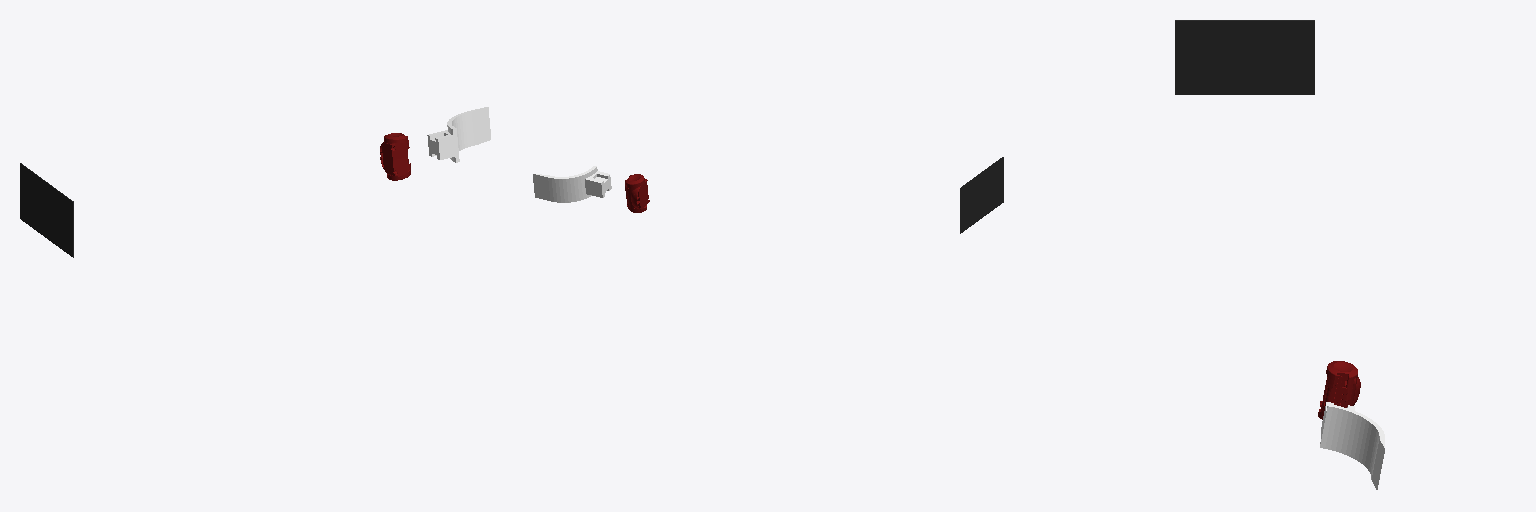
URDF robot description (sawyer):
<?xml version="1" ?>
<!-- =================================================================================== -->
<!-- |    This document was autogenerated by xacro from ./urdf.xacro                   | -->
<!-- |    EDITING THIS FILE BY HAND IS NOT RECOMMENDED                                 | -->
<!-- =================================================================================== -->
<robot name="sawyer" xmlns:xacro="http://www.ros.org/wiki/xacro">
  <material name="black">
    <color rgba="0 0 0 1"/>
  </material>
  <material name="darkgray">
    <color rgba="0.2 0.2 0.2 1"/>
  </material>
  <material name="darkred">
    <color rgba="0.5 0.1 0.1 1"/>
  </material>
  <material name="sawyer_red">
    <color rgba="0.5 0.1 0.1 1"/>
  </material>
  <material name="sawyer_gray">
    <color rgba="0.75294 0.75294 0.75294 1"/>
  </material>
  <link name="base">
    <inertial>
      <origin rpy="0 0 0" xyz="-0.1 0 0.07"/>
      <!--Increase mass from 5 Kg original to provide a stable base to carry the
          arm.-->
      <mass value=".0"/>
      <inertia ixx="0.05" ixy="0" ixz="0" iyy="0.06" iyz="0" izz="0.03"/>
    </inertial>
  </link>
  <link name="torso">
    <visual>
      <origin rpy="0 0 0" xyz="0 0 0"/>
      <geometry>
        <box size="0 0 0"/>
      </geometry>
      <material name="darkgray">
        <color rgba="0.2 0.2 0.2 1"/>
      </material>
    </visual>
    <inertial>
      <origin rpy="0 0 0" xyz="0 0 0"/>
      <mass value="0.0001"/>
      <inertia ixx="1e-08" ixy="0" ixz="0" iyy="1e-08" iyz="0" izz="1e-08"/>
    </inertial>
  </link>
  <link name="pedestal">
    <visual>
      <origin rpy="1.5708 0 -1.5708" xyz="0.26 0.345 -0.91488"/>
      <geometry>
        <mesh filename="meshes/sawyer_pv/pedestal.DAE"/>
      </geometry>
      <material name="darkgray"/>
    </visual>
    <collision>
      <origin rpy="0 0 0" xyz="0 0 -0.3"/>
      <geometry>
        <cylinder length="0.62" radius="0.18"/>
      </geometry>
    </collision>
    <inertial>
      <origin rpy="0 0 0" xyz="0 0 0"/>
      <mass value="60.864"/>
      <inertia ixx="5.0636" ixy="0.0010342" ixz="0.802" iyy="6.0869" iyz="0.0010531" izz="4.9619"/>
    </inertial>
  </link>
  <!--
  <link name="controller_box">
    <collision>
      <origin rpy="0 0 0" xyz="-0.325 0 -0.38"/>
      <geometry>
        <box size="0.22 0.4 0.53"/>
      </geometry>
    </collision>
  </link>
  <joint name="controller_box_fixed" type="fixed">
    <origin rpy="0 0 0" xyz="0 0 0"/>
    <parent link="base"/>
    <child link="controller_box"/>
  </joint>
  <link name="pedestal_feet">
    <collision>
      <origin rpy="0 0 0" xyz="-0.1225 0 -0.758"/>
      <geometry>
        <box size="0.77 0.7 0.31"/>
      </geometry>
    </collision>
  </link>
  <joint name="pedestal_feet_fixed" type="fixed">
    <origin rpy="0 0 0" xyz="0 0 0"/>
    <parent link="base"/>
    <child link="pedestal_feet"/>
  </joint>
  -->
  <joint name="torso_t0" type="fixed">
    <origin rpy="0 0 0" xyz="0 0 0"/>
    <parent link="base"/>
    <child link="torso"/>
  </joint>
  <joint name="pedestal_fixed" type="fixed">
    <origin rpy="0 0 0" xyz="0 0 0"/>
    <parent link="base"/>
    <child link="pedestal"/>
  </joint>
  <joint name="right_arm_mount" type="fixed">
    <origin rpy="0 0 0" xyz="0 0 0"/>
    <parent link="base"/>
    <child link="right_arm_base_link"/>
  </joint>
  <link name="right_arm_base_link">
    <inertial>
      <origin rpy="0 0 0" xyz="-0.0006241 -2.8025e-05 0.065404"/>
      <mass value="2.0687"/>
      <inertia ixx="0.0067599" ixy="-4.2024e-05" ixz="-6.1904e-07" iyy="0.0067877" iyz="1.5888e-05" izz="0.0074031"/>
    </inertial>
    <visual>
      <origin rpy="0 0 0" xyz="0 0 0"/>
      <geometry>
        <mesh filename="meshes/sawyer_pv/base.DAE"/>
      </geometry>
      <material name="sawyer_red"/>
    </visual>
    <collision>
      <origin rpy="0 0 0" xyz="0 0 0.12"/>
      <geometry>
        <cylinder length="0.24" radius="0.08"/>
      </geometry>
    </collision>
  </link>
  <link name="right_l0">
    <inertial>
      <origin rpy="0 0 0" xyz="0.024366 0.010969 0.14363"/>
      <mass value="5.3213"/>
      <inertia ixx="0.053314" ixy="0.0047093" ixz="0.011734" iyy="0.057902" iyz="0.0080179" izz="0.023659"/>
    </inertial>
    <visual>
      <origin rpy="0 0 0" xyz="0 0 0"/>
      <geometry>
        <mesh filename="meshes/sawyer_mp3/l0.DAE"/>
      </geometry>
      <material name="sawyer_red"/>
    </visual>
    <collision>
      <origin rpy="0 0 0" xyz="0.081 0 0.237"/>
      <geometry>
        <sphere radius="0.07"/>
      </geometry>
    </collision>
  </link>
  <joint name="right_j0" type="revolute">
    <origin rpy="0 0 0" xyz="0 0 0.08"/>
    <parent link="right_arm_base_link"/>
    <child link="right_l0"/>
    <axis xyz="0 0 1"/>
    <limit effort="80" lower="-3.0503" upper="3.0503" velocity="1.74"/>
  </joint>
  <link name="head">
    <inertial>
      <origin rpy="0 0 0" xyz="0.0053207 -2.6549e-05 0.1021"/>
      <mass value="1.5795"/>
      <inertia ixx="0.011833" ixy="-4.4669e-06" ixz="4.9425e-05" iyy="0.0082709" iyz="4.2124e-07" izz="0.0049661"/>
    </inertial>
    <visual>
      <origin rpy="0 0 0" xyz="0 0 0"/>
      <geometry>
        <mesh filename="meshes/sawyer_pv/head.STL"/>
      </geometry>
      <material name="sawyer_red"/>
    </visual>
    <collision>
      <origin rpy="0 0 0" xyz="0 0 0.08"/>
      <geometry>
        <sphere radius="0.18"/>
      </geometry>
    </collision>
  </link>
  <joint name="head_pan" type="revolute">
    <origin rpy="0 0 0" xyz="0 0 0.2965"/>
    <parent link="right_l0"/>
    <child link="head"/>
    <axis xyz="0 0 1"/>
    <limit effort="8" lower="-5.1477" upper="0.9559" velocity="1.8"/>
  </joint>
  <link name="right_torso_itb">
    <inertial>
      <origin rpy="0 0 0" xyz="0 0 0"/>
      <mass value="0.0001"/>
      <inertia ixx="1e-08" ixy="0" ixz="0" iyy="1e-08" iyz="0" izz="1e-08"/>
    </inertial>
  </link>
  <joint name="right_torso_itb" type="fixed">
    <origin rpy="0 -1.5708 0" xyz="-0.055 0 0.22"/>
    <parent link="right_l0"/>
    <child link="right_torso_itb"/>
    <axis xyz="0 0 1"/>
  </joint>
  <link name="right_l1">
    <inertial>
      <origin rpy="0 0 0" xyz="-0.0030849 -0.026811 0.092521"/>
      <mass value="4.505"/>
      <inertia ixx="0.022398" ixy="-0.00023986" ixz="-0.00029362" iyy="0.014613" iyz="-0.0060875" izz="0.017295"/>
    </inertial>
    <visual>
      <origin rpy="0 0 0" xyz="0 0 0"/>
      <geometry>
        <mesh filename="meshes/sawyer_mp3/l1.DAE"/>
      </geometry>
      <material name="sawyer_red"/>
    </visual>
    <collision>
      <origin rpy="0 0 0" xyz="0 0 0.1225"/>
      <geometry>
        <sphere radius="0.07"/>
      </geometry>
    </collision>
  </link>
  <joint name="right_j1" type="revolute">
    <origin rpy="-1.5708 1.5708 0" xyz="0.081 0.05 0.237"/>
    <parent link="right_l0"/>
    <child link="right_l1"/>
    <axis xyz="0 0 1"/>
    <limit effort="80" lower="-3.8183" upper="2.2824" velocity="1.328"/>
  </joint>
  <link name="right_l2">
    <inertial>
      <origin rpy="0 0 0" xyz="-0.00016232 -0.015346 0.13445"/>
      <mass value="1.7251"/>
      <inertia ixx="0.025176" ixy="4.3031e-06" ixz="1.4564e-05" iyy="0.024982" iyz="-0.0033928" izz="0.0033798"/>
    </inertial>
    <visual>
      <origin rpy="0 0 0" xyz="0 0 0"/>
      <geometry>
        <mesh filename="meshes/sawyer_pv/l2.DAE"/>
      </geometry>
      <material name="sawyer_red"/>
    </visual>
    <collision>
      <origin rpy="0 0 0" xyz="0 0 0.14"/>
      <geometry>
        <cylinder length="0.35" radius="0.06"/>
      </geometry>
    </collision>
  </link>
  <joint name="right_j2" type="revolute">
    <origin rpy="1.5708 0 0" xyz="0 -0.14 0.1425"/>
    <parent link="right_l1"/>
    <child link="right_l2"/>
    <axis xyz="0 0 1"/>
    <limit effort="40" lower="-3.0514" upper="3.0514" velocity="1.957"/>
  </joint>
  <link name="right_l3">
    <inertial>
      <origin rpy="0 0 0" xyz="-0.0046678 -0.028394 -0.083127"/>
      <mass value="2.4743"/>
      <inertia ixx="0.0099549" ixy="-1.7675e-05" ixz="0.00027521" iyy="0.0064248" iyz="0.0030853" izz="0.0067746"/>
    </inertial>
    <visual>
      <origin rpy="0 0 0" xyz="0 0 0"/>
      <geometry>
        <mesh filename="meshes/sawyer_pv/l3.DAE"/>
      </geometry>
      <material name="sawyer_red"/>
    </visual>
    <collision>
      <origin rpy="0 0 0" xyz="0 -0.01 -0.12"/>
      <geometry>
        <sphere radius="0.06"/>
      </geometry>
    </collision>
  </link>
  <joint name="right_j3" type="revolute">
    <origin rpy="-1.5708 0 0" xyz="0 -0.042 0.26"/>
    <parent link="right_l2"/>
    <child link="right_l3"/>
    <axis xyz="0 0 1"/>
    <limit effort="40" lower="-3.0514" upper="3.0514" velocity="1.957"/>
  </joint>
  <link name="right_l4">
    <inertial>
      <origin rpy="0 0 0" xyz="-0.0027794 0.0076558 0.13273"/>
      <mass value="1.0433"/>
      <inertia ixx="0.012913" ixy="2.573e-05" ixz="0.00017705" iyy="0.012939" iyz="0.0011152" izz="0.0012405"/>
    </inertial>
    <visual>
      <origin rpy="0 0 0" xyz="0 0 0"/>
      <geometry>
        <mesh filename="meshes/sawyer_pv/l4.DAE"/>
      </geometry>
      <material name="sawyer_red"/>
    </visual>
    <collision>
      <origin rpy="0 0 0" xyz="0 0 0.14"/>
      <geometry>
        <cylinder length="0.36" radius="0.045"/>
      </geometry>
    </collision>
  </link>
  <joint name="right_j4" type="revolute">
    <origin rpy="1.5708 0 0" xyz="0 -0.125 -0.1265"/>
    <parent link="right_l3"/>
    <child link="right_l4"/>
    <axis xyz="0 0 1"/>
    <limit effort="9" lower="-2.9842" upper="2.9842" velocity="3.485"/>
  </joint>
  <link name="right_arm_itb">
    <inertial>
      <origin rpy="0 0 0" xyz="0 0 0"/>
      <mass value="0.0001"/>
      <inertia ixx="1e-08" ixy="0" ixz="0" iyy="1e-08" iyz="0" izz="1e-08"/>
    </inertial>
  </link>
  <joint name="right_arm_itb" type="fixed">
    <origin rpy="0 -1.5708 0" xyz="-0.055 0 0.075"/>
    <parent link="right_l4"/>
    <child link="right_arm_itb"/>
    <axis xyz="0 0 1"/>
  </joint>
  <link name="right_l5">
    <inertial>
      <origin rpy="0 0 0" xyz="0.0062067 -0.024291 0.075564"/>
      <mass value="1.5343"/>
      <inertia ixx="0.0046072" ixy="0.00012002" ixz="5.3065e-05" iyy="0.0028725" iyz="-0.0011886" izz="0.003101"/>
    </inertial>
    <visual>
      <origin rpy="0 0 0" xyz="0 0 0"/>
      <geometry>
        <mesh filename="meshes/sawyer_pv/l5.STL"/>
      </geometry>
      <material name="sawyer_red"/>
    </visual>
    <collision>
      <origin rpy="0 0 0" xyz="0.01 0 0.09"/>
      <geometry>
        <sphere radius="0.06"/>
      </geometry>
    </collision>
  </link>
  <joint name="right_j5" type="revolute">
    <origin rpy="-1.5708 0 0" xyz="0 0.031 0.275"/>
    <parent link="right_l4"/>
    <child link="right_l5"/>
    <axis xyz="0 0 1"/>
    <limit effort="9" lower="-2.9842" upper="2.9842" velocity="3.485"/>
  </joint>
  <link name="right_hand_camera">
    <inertial>
      <origin rpy="0 0 0" xyz="0 0 0"/>
      <mass value="0.0001"/>
      <inertia ixx="1e-08" ixy="0" ixz="0" iyy="1e-08" iyz="0" izz="1e-08"/>
    </inertial>
  </link>
  <joint name="right_hand_camera" type="fixed">
    <origin rpy="0 1.5708 0" xyz="0.039552 -0.033 0.0695"/>
    <parent link="right_l5"/>
    <child link="right_hand_camera"/>
    <axis xyz="0 0 0"/>
  </joint>
  <link name="right_wrist">
    <inertial>
      <origin rpy="0 0 0" xyz="0 0 0"/>
      <mass value="0.0001"/>
      <inertia ixx="1e-08" ixy="0" ixz="0" iyy="1e-08" iyz="0" izz="1e-08"/>
    </inertial>
  </link>
  <joint name="right_wrist" type="fixed">
    <origin rpy="1.5708 0 0" xyz="0 0 0.10541"/>
    <parent link="right_l5"/>
    <child link="right_wrist"/>
    <axis xyz="0 0 0"/>
  </joint>
  <link name="right_l6">
    <inertial>
      <origin rpy="0 0 0" xyz="-8.0726e-06 0.0085838 -0.0049566"/>
      <mass value="0.3292"/>
      <inertia ixx="0.00031105" ixy="1.4771e-06" ixz="-3.7074e-07" iyy="0.00021549" iyz="-8.4533e-06" izz="0.00035976"/>
    </inertial>
    <visual>
      <origin rpy="0 0 0" xyz="0 0 0"/>
      <geometry>
        <mesh filename="meshes/sawyer_mp1/l6.STL"/>
      </geometry>
      <material name="sawyer_red"/>
    </visual>
    <collision>
      <origin rpy="0 0 0" xyz="0 0 -0.005"/>
      <geometry>
        <cylinder length="0.05" radius="0.065"/>
      </geometry>
    </collision>
  </link>
  <joint name="right_j6" type="revolute">
    <origin rpy="-1.5708 -0.17453 3.1416" xyz="0 -0.11 0.1053"/>
    <parent link="right_l5"/>
    <child link="right_l6"/>
    <axis xyz="0 0 1"/>
    <limit effort="9" lower="-4.7104" upper="4.7104" velocity="4.545"/>
  </joint>
  <link name="right_hand">
    <inertial>
      <origin rpy="0 0 0" xyz="0 0 0"/>
      <mass value="1e-08"/>
      <inertia ixx="1e-08" ixy="0" ixz="0" iyy="1e-08" iyz="0" izz="1e-08"/>
    </inertial>
  </link>
  <joint name="right_hand" type="fixed">
    <origin rpy="0 0 1.5708" xyz="0 0 0.0245"/>
    <axis xyz="0 0 1"/>
    <parent link="right_l6"/>
    <child link="right_hand"/>
  </joint>
  <link name="screen">
    <visual>
      <origin rpy="0 0 0" xyz="0 0 0"/>
      <geometry>
        <box size="0.24 0.14 0.002"/>
      </geometry>
      <material name="darkgray"/>
    </visual>
    <collision>
      <origin rpy="0 0 0" xyz="0 0 0"/>
      <geometry>
        <sphere radius="0.001"/>
      </geometry>
    </collision>
    <inertial>
      <origin rpy="0 0 0" xyz="0 0 0"/>
      <mass value="0.0001"/>
      <inertia ixx="1e-08" ixy="0" ixz="0" iyy="1e-08" iyz="0" izz="1e-08"/>
    </inertial>
  </link>
  <joint name="display_joint" type="fixed">
    <origin rpy="1.5708 0 1.5708" xyz="0.03 0 0.105"/>
    <parent link="head"/>
    <child link="screen"/>
  </joint>
  <link name="head_camera">
    <inertial>
      <origin rpy="0 0 0" xyz="0 0 0"/>
      <mass value="0.0001"/>
      <inertia ixx="1e-08" ixy="0" ixz="0" iyy="1e-08" iyz="0" izz="1e-08"/>
    </inertial>
  </link>
    <joint name="head_camera" type="fixed">
      <origin rpy="-2.1293 0 -1.5708" xyz="0.022803 0 0.21657"/>
      <parent link="head"/>
      <child link="head_camera"/>
      <axis xyz="0 0 0"/>
    </joint>


  <!-- Base of end effector -->
  <link name="right_gripper_base">
    <visual>
      <origin rpy="-1.57079632679 3.14159265359 0" xyz="0 0 0"/>
      <geometry>
        <mesh filename="rethink_ee_meshes/electric_gripper/electric_gripper_base.DAE"/>
      </geometry>
      <material name="darkred">
        <color rgba=".5 .1 .1 1"/>
      </material>
    </visual>
    <collision>
      <origin rpy="-1.57079632679 3.14159265359 0" xyz="0.0 0.0 0"/>
      <geometry>
        <cylinder length="0.1" radius="0.029"/>
      </geometry>
      <material name="darkred">
        <color rgba=".5 .1 .1 1"/>
      </material>
    </collision>
    <inertial>
      <origin rpy="-1.57079632679 3.14159265359 0" xyz="0.0 0.0 0.0"/>
      <mass value="0.3"/>
      <inertia ixx="2e-08" ixy="0" ixz="0" iyy="3e-08" iyz="0" izz="2e-08"/>
    </inertial>
  </link>
  <link name="r_gripper_l_finger">
    <visual>
      <origin rpy="0 0 -3.14159265359" xyz="0 0 0"/>
      <geometry>
        <mesh filename="rethink_ee_meshes/electric_gripper/fingers/extended_narrow.DAE"/>
      </geometry>
      <material name="darkgray">
        <color rgba=".2 .2 .2 1"/>
      </material>
    </visual>
    <collision>
      <origin rpy="0 0 -3.14159265359" xyz="0 0.01725 0.0615"/>
      <geometry>
        <box size="0.01 0.0135 0.1127"/>
      </geometry>
    </collision>
    <collision>
      <origin rpy="0 0 -3.14159265359" xyz="-0.005 -0.003 0.0083"/>
      <geometry>
        <box size="0.01 0.05 0.017"/>
      </geometry>
    </collision>
    <inertial>
      <origin rpy="0 0 -3.14159265359" xyz="0 0 0"/>
      <mass value="0.02"/>
      <inertia ixx="0.01" ixy="0" ixz="0" iyy="0.01" iyz="0" izz="0.01"/>
    </inertial>
  </link>
  <gazebo reference="r_gripper_l_finger">
    <mu1>1000</mu1>
    <mu2>1000</mu2>
    <fdir1>0.0 0.0 1.0</fdir1>
    <kp>1e5</kp>
    <kd>1.0</kd>
  </gazebo>
  <link name="r_gripper_l_finger_tip">
    <visual>
      <origin rpy="0 0 3.14159265359" xyz="0 0 0"/>
      <geometry>
        <mesh filename="rethink_ee_meshes/electric_gripper/fingers/paddle_tip.DAE"/>
      </geometry>
      <material name="darkgray">
        <color rgba=".2 .2 .2 1"/>
      </material>
    </visual>
    <collision>
      <origin rpy="0 0 3.14159265359" xyz="0 -0.0045 -0.015"/>
      <geometry>
        <box size="0.042 0.0065 0.037"/>
      </geometry>
    </collision>
    <inertial>
      <origin rpy="0 0 3.14159265359" xyz="0 0 0"/>
      <mass value="0.01"/>
      <inertia ixx="0.01" ixy="0" ixz="0" iyy="0.01" iyz="0" izz="0.01"/>
    </inertial>
  </link>
  <joint name="r_gripper_l_finger_tip_joint" type="fixed">
    <origin rpy="0 0 0" xyz="0.0 0.01725 0.1127"/>
    <parent link="r_gripper_l_finger"/>
    <child link="r_gripper_l_finger_tip"/>
  </joint>
  <link name="r_gripper_r_finger">
    <visual>
      <origin rpy="0 0 -0.0" xyz="0 0 0"/>
      <geometry>
        <mesh filename="rethink_ee_meshes/electric_gripper/fingers/extended_narrow.DAE"/>
      </geometry>
      <material name="darkgray">
        <color rgba=".2 .2 .2 1"/>
      </material>
    </visual>
    <collision>
      <origin rpy="0 0 -0.0" xyz="0 -0.01725 0.0615"/>
      <geometry>
        <box size="0.01 0.0135 0.1127"/>
      </geometry>
    </collision>
    <collision>
      <origin rpy="0 0 -0.0" xyz="0.005 0.003 0.0083"/>
      <geometry>
        <box size="0.01 0.05 0.017"/>
      </geometry>
    </collision>
    <inertial>
      <origin rpy="0 0 -0.0" xyz="0 0 0"/>
      <mass value="0.02"/>
      <inertia ixx="0.01" ixy="0" ixz="0" iyy="0.01" iyz="0" izz="0.01"/>
    </inertial>
  </link>
  <gazebo reference="r_gripper_r_finger">
    <mu1>1000</mu1>
    <mu2>1000</mu2>
    <fdir1>0.0 0.0 1.0</fdir1>
    <kp>1e5</kp>
    <kd>1.0</kd>
  </gazebo>
  <link name="r_gripper_r_finger_tip">
    <visual>
      <origin rpy="0 0 0.0" xyz="0 0 0"/>
      <geometry>
        <mesh filename="rethink_ee_meshes/electric_gripper/fingers/paddle_tip.DAE"/>
      </geometry>
      <material name="darkgray">
        <color rgba=".2 .2 .2 1"/>
      </material>
    </visual>
    <collision>
      <origin rpy="0 0 0.0" xyz="0 0.0045 -0.015"/>
      <geometry>
        <box size="0.042 0.0065 0.037"/>
      </geometry>
    </collision>
    <inertial>
      <origin rpy="0 0 0.0" xyz="0 0 0"/>
      <mass value="0.01"/>
      <inertia ixx="0.01" ixy="0" ixz="0" iyy="0.01" iyz="0" izz="0.01"/>
    </inertial>
  </link>
  <joint name="r_gripper_r_finger_tip_joint" type="fixed">
    <origin rpy="0 0 0" xyz="0.0 -0.01725 0.1127"/>
    <parent link="r_gripper_r_finger"/>
    <child link="r_gripper_r_finger_tip"/>
  </joint>
  <!-- Electric Gripper Base Joint -->
  <joint name="right_gripper_base" type="fixed">
    <origin rpy="0 0 0" xyz="0 0 0.025"/>
    <parent link="right_hand"/>
    <child link="right_gripper_base"/>
  </joint>
  <!-- Electric Gripper Tip joint -->
  <joint name="right_endpoint" type="fixed">
    <origin rpy="0 0 0" xyz="0 0 0.1327"/>
    <parent link="right_gripper_base"/>
    <child link="right_gripper"/>
  </joint>
  <!-- Electric Gripper Tip link -->
  <link name="right_gripper">
    <inertial>
      <origin rpy="0 0 0" xyz="0 0 0"/>
      <mass value="0.0001"/>
      <inertia ixx="1e-08" ixy="0" ixz="0" iyy="1e-08" iyz="0" izz="1e-08"/>
    </inertial>
  </link>
  <joint name="r_gripper_l_finger_joint" type="prismatic">
    <origin rpy="0 0 0" xyz="0.0 -0.0015 0.02"/>
    <axis xyz="0 1 0"/>
    <parent link="right_gripper_base"/>
    <child link="r_gripper_l_finger"/>
    <limit effort="20.0" lower="0.0" upper="0.020833" velocity="5.0"/>
    <dynamics damping="0.7" friction="0.0"/>
  </joint>
  <joint name="r_gripper_r_finger_joint" type="prismatic">
    <origin rpy="0 0 0" xyz="0.0 0.0015 0.02"/>
    <axis xyz="0 1 0"/>
    <parent link="right_gripper_base"/>
    <child link="r_gripper_r_finger"/>
    <limit effort="20.0" lower="-0.020833" upper="0.0" velocity="5.0"/>
    <mimic joint="r_gripper_l_finger_joint" multiplier="-1.0"/>
    <dynamics damping="0.7" friction="0.0"/>
  </joint>
  <transmission name="gripper_right1">
    <type>transmission_interface/SimpleTransmission</type>
    <joint name="r_gripper_r_finger_joint">
      <hardwareInterface>EffortJointInterface</hardwareInterface>
    </joint>
    <actuator name="gripper_r1_motor1">
      <hardwareInterface>EffortJointInterface</hardwareInterface>
      <mechanicalReduction>1</mechanicalReduction>
    </actuator>
  </transmission>
  <transmission name="gripper_right2">
    <type>transmission_interface/SimpleTransmission</type>
    <joint name="r_gripper_l_finger_joint">
      <hardwareInterface>EffortJointInterface</hardwareInterface>
    </joint>
    <actuator name="gripper_r1_motor2">
      <hardwareInterface>EffortJointInterface</hardwareInterface>
      <mechanicalReduction>1</mechanicalReduction>
    </actuator>
  </transmission>
  <gazebo reference="r_gripper_r_finger_joint">
    <implicitSpringDamper>1</implicitSpringDamper>
  </gazebo>
  <gazebo reference="r_gripper_l_finger_joint">
    <implicitSpringDamper>1</implicitSpringDamper>
  </gazebo>

    <material name="color">
        <color rgba="1.0 1.0 1.0 1.0"/>
    </material>

    <link name="tool_right">
        <visual>
          <origin rpy="0 0 0" xyz="0 0 0"/>
          <geometry>
              <mesh filename="arm_manipulation/arm_manipulation_scooper.obj" scale="0.001 0.001 0.001"/>
          </geometry>
          <material name="color"/>
        </visual>
        <collision>
          <origin rpy="0 0 0" xyz="0 0 0"/>
          <geometry>
              <mesh filename="arm_manipulation/arm_manipulation_scooper_vhacd.obj" scale="0.001 0.001 0.001"/>
          </geometry>
        </collision>
        <inertial>
            <origin xyz="-0.04 0.05 0" rpy="0 0 0"/>
            <mass value="1"/>
            <inertia ixx="1" ixy="0" ixz="0" iyy="1" iyz="0" izz="1"/>
        </inertial>
    </link>

    <joint name="j_tool_right" type="fixed">
        <parent link="right_gripper_base"/>
        <child link="tool_right"/>
        <!--<origin xyz="0.075 0 0.235" rpy="1.57079632679 -1.57079632679 0"/>-->
        <origin xyz="-0.075 0 0.235" rpy="-1.57079632679 -1.57079632679 0"/>
    </joint>

</robot>

--- What the picture shows (computed from the rendered views, not written in the file) ---
The picture shows the robot from 3 angles, left to right: view 1: azimuth 30°, elevation 25°; view 2: azimuth 150°, elevation 25°; view 3: azimuth 270°, elevation 25°; orthographic projection.
Robot: sawyer — 26 links, 25 joints (8 revolute, 2 prismatic, 15 fixed); root link base; default pose: every joint at zero.
Links seen in each view (by area): view 1: screen, tool_right, right_gripper_base; view 2: screen, tool_right, right_gripper_base; view 3: screen, tool_right, right_gripper_base.
Boxes of the visible links, x1=… form: screen: x1=20, y1=163, x2=73, y2=257; tool_right: x1=427, y1=107, x2=490, y2=162; right_gripper_base: x1=380, y1=133, x2=410, y2=180; screen: x1=960, y1=157, x2=1003, y2=233; tool_right: x1=533, y1=166, x2=611, y2=202; right_gripper_base: x1=625, y1=174, x2=649, y2=212; screen: x1=1175, y1=20, x2=1314, y2=94; tool_right: x1=1320, y1=402, x2=1384, y2=489; right_gripper_base: x1=1318, y1=361, x2=1360, y2=419.
Size in the robot's own frame: 1.33 by 0.3611 by 0.5515 metres.
2 mesh visuals loaded from 14 distinct referenced files (1 Collada DAE, 1 OBJ); not drawn: 14 (reference not matched to a file when rendering).